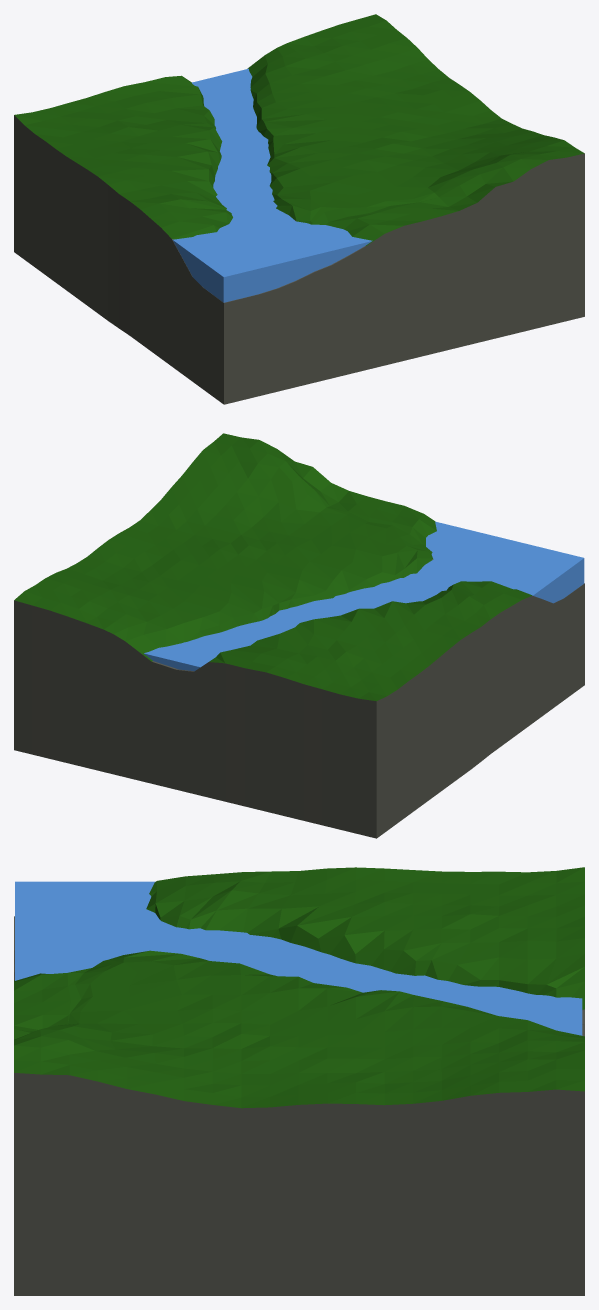
Rendered from map1.fbx.
3 views of the same model, one above another, from view 1: azimuth 30°, elevation 25°; view 2: azimuth 150°, elevation 25°; view 3: azimuth 270°, elevation 25° (orthographic). The views are drawn at different scales.
Parts seen in each view (by area): view 1: Map1; view 2: Map1; view 3: Map1.
Boxes of the visible parts, x1=… form: Map1: x1=14, y1=14, x2=584, y2=404; Map1: x1=14, y1=433, x2=584, y2=838; Map1: x1=14, y1=867, x2=584, y2=1295.
Bounding box in the file's own units: 100 × 43.69 × 100.
